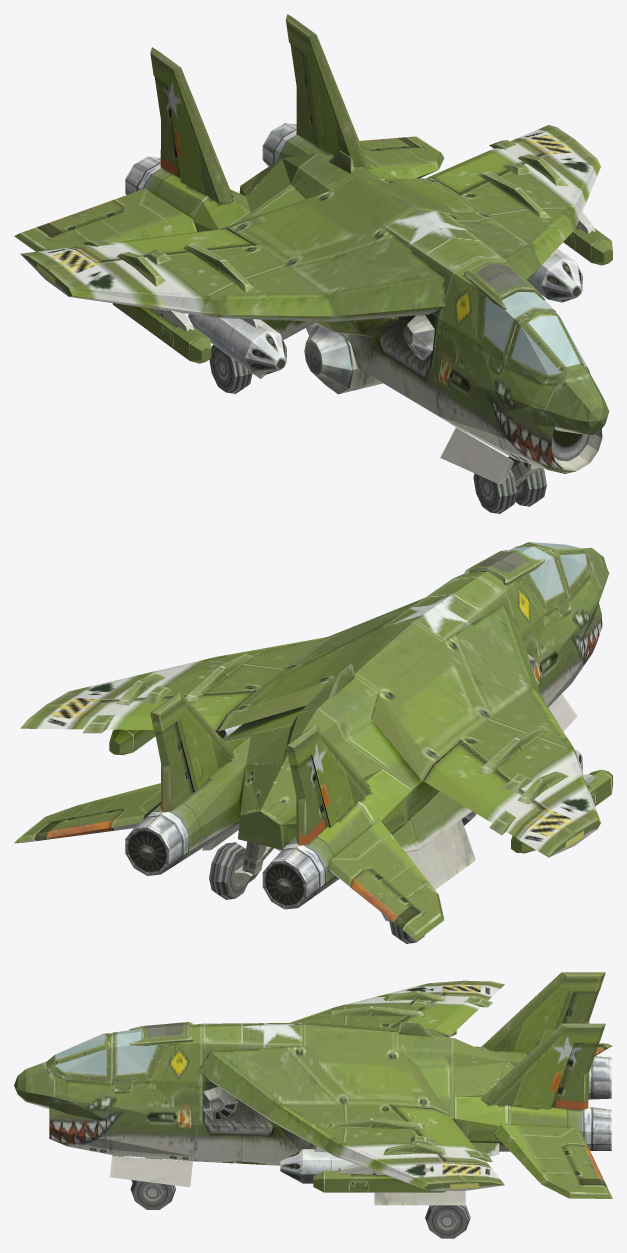
File: VWFFTRH.obj
3 renders of one model, top to bottom at view 1: azimuth 30°, elevation 25°; view 2: azimuth 150°, elevation 25°; view 3: azimuth 270°, elevation 25°, orthographic. The views are drawn at different scales.
Visible parts, largest first — view 1: Node 0, Node 31, Node 2, Node 9, Node 24, Node 25, Node 8, Node 30, Node 1, Node 4, Node 3, Node 22 (+3 smaller); view 2: Node 0, Node 24, Node 25, Node 16, Node 4, Node 3, Node 2, Node 19, Node 1, Node 18, Node 8; view 3: Node 0, Node 25, Node 2, Node 24, Node 12, Node 3, Node 30, Node 17, Node 19, Node 1, Node 15, Node 5 (+1 smaller).
Part boxes in pixels (x1,y1,x2,y2): Node 0: [14, 14, 612, 473]; Node 31: [188, 314, 286, 374]; Node 2: [476, 289, 555, 373]; Node 9: [304, 325, 382, 394]; Node 24: [68, 229, 254, 262]; Node 25: [426, 138, 547, 195]; Node 8: [440, 427, 513, 484]; Node 30: [527, 248, 582, 302]; Node 1: [464, 260, 544, 309]; Node 4: [154, 76, 180, 177]; Node 3: [290, 43, 315, 144]; Node 22: [209, 345, 252, 393]; Node 0: [14, 542, 612, 941]; Node 24: [424, 741, 547, 839]; Node 25: [67, 690, 254, 733]; Node 16: [406, 819, 475, 889]; Node 4: [290, 756, 328, 845]; Node 3: [155, 722, 193, 812]; Node 2: [508, 545, 571, 616]; Node 19: [209, 842, 247, 899]; Node 1: [464, 550, 544, 584]; Node 18: [233, 841, 266, 885]; Node 8: [548, 694, 577, 731]; Node 0: [14, 972, 612, 1198]; Node 25: [390, 1106, 492, 1168]; Node 2: [112, 1029, 168, 1092]; Node 24: [390, 991, 492, 1036]; Node 12: [109, 1156, 192, 1187]; Node 3: [550, 1042, 599, 1109]; Node 30: [280, 1149, 354, 1183]; Node 17: [374, 1191, 465, 1205]; Node 19: [425, 1205, 470, 1238]; Node 1: [129, 1022, 193, 1045]; Node 15: [130, 1180, 175, 1209]; Node 5: [202, 1086, 238, 1120].
Bounding box in the file's own units: 10.62 × 5.06 × 13.38.
Materials: 35 (35 with a texture image).
